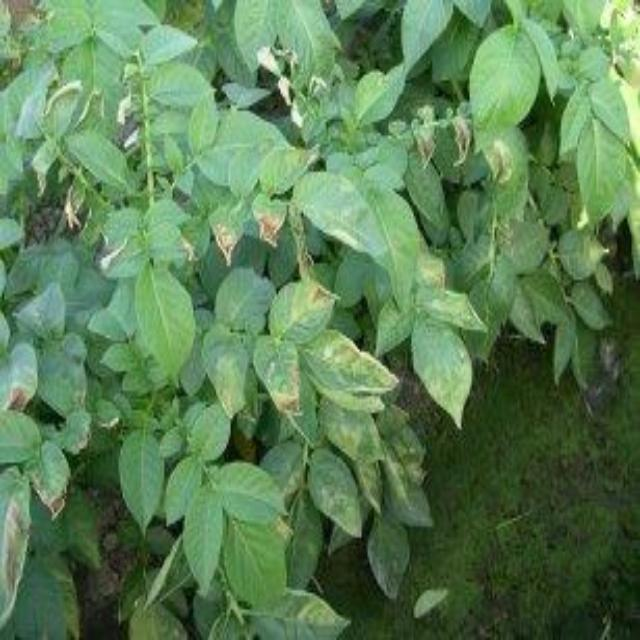Early_blight: (256, 46, 328, 129), (411, 344, 470, 430), (323, 330, 403, 392), (1, 497, 29, 624), (322, 408, 384, 463), (204, 354, 253, 417), (313, 487, 366, 540), (262, 354, 305, 417), (289, 279, 344, 328), (288, 594, 349, 630), (480, 140, 518, 189), (356, 465, 387, 517), (35, 479, 70, 523), (96, 240, 131, 279), (209, 221, 240, 264), (415, 252, 447, 293), (59, 190, 86, 237), (4, 380, 37, 417), (255, 211, 287, 249), (453, 117, 473, 167), (415, 129, 439, 170)
